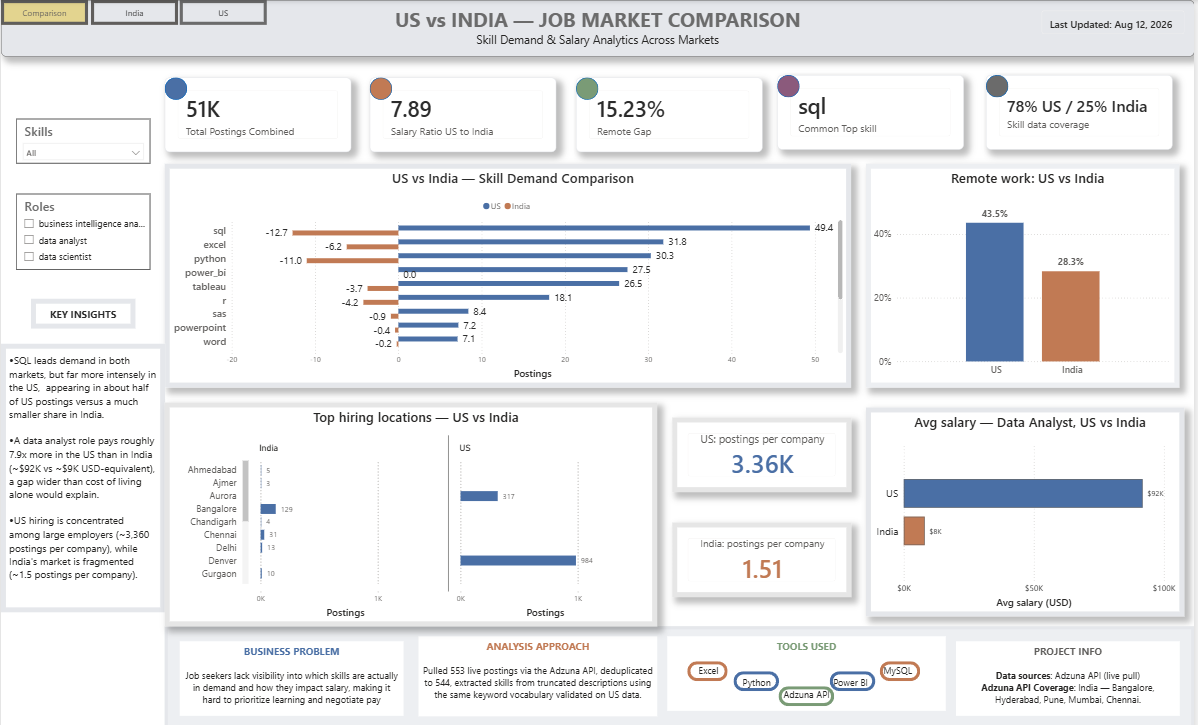

This screenshot's page, from the dashboard's own definition file:
{"tool":"powerbi","page":{"name":"Comparison","canvas":[1920,1200],"ordinal":2},"visuals":[{"type":"textbox","box":[0,0,1920,91],"z":0},{"type":"cardVisual","fields":{"Data":["_Measures.Top India Skill"]},"box":[1248,120,300,120],"z":0,"group":"g4"},{"type":"cardVisual","fields":{"Data":["_Measures.Data Coverage Label"]},"box":[1584,120,300,120],"z":0,"group":"g5"},{"type":"cardVisual","fields":{"Data":["_Measures.Total Postings Combined"]},"box":[264,124.8,300,120],"z":0,"group":"g1"},{"type":"cardVisual","fields":{"Data":["_Measures.Salary Ratio US to India"]},"box":[594,124.8,300,120],"z":0,"group":"g2"},{"type":"cardVisual","fields":{"Data":["_Measures.Remote Gap"]},"box":[924,124.8,300,120],"z":0,"group":"g3"},{"type":"shape","box":[1248,120,36,36],"z":1000,"group":"g4"},{"type":"shape","box":[1584,120,36,36],"z":1000,"group":"g5"},{"type":"shape","box":[264,124.8,36,36],"z":1000,"group":"g1"},{"type":"shape","box":[594,124.8,36,36],"z":1000,"group":"g2"},{"type":"shape","box":[924,124.8,36,36],"z":1000,"group":"g3"},{"type":"slicer","fields":{"Values":["SkillDim.skill_name"]},"box":[24,192,216,72],"z":1000},{"type":"slicer","fields":{"Values":["india_skills_by_role.search_term"]},"box":[24,312,216,122],"z":2000},{"type":"group","id":"g1","title":"Group 1","box":[264,124.8,312,120],"z":5000},{"type":"group","id":"g2","title":"Group 1","box":[594,124.8,312,120],"z":6000},{"type":"group","id":"g3","title":"Group 1","box":[924,124.8,312,120],"z":7000},{"type":"group","id":"g4","title":"Group 1","box":[1248,120,312,144],"z":8000},{"type":"group","id":"g5","title":"Group 1","box":[1584,120,288,144],"z":9000},{"type":"clusteredBarChart","title":"US vs India — Skill Demand Comparison","fields":{"Y":["Sum(us_vs_india_skill_comparison.us_pct)","_Measures.India Pct Negative"],"Category":["us_vs_india_skill_comparison.skill_name"]},"box":[264,264,1104,360],"z":10000},{"type":"clusteredBarChart","title":"Avg salary — Data Analyst, US vs India","fields":{"Category":["Remote compare.Country"],"Y":["Remote compare.Avg Salary USD (DA only)"]},"box":[1392,656,512,336],"z":13000},{"type":"textbox","box":[48,480,168,48],"z":14000},{"type":"textbox","box":[0,552,264,432],"z":15000},{"type":"shape","box":[264,1008,1656,168],"z":16000},{"type":"textbox","box":[288,1032,360,120],"z":17000},{"type":"textbox","box":[672,1024,384,129],"z":18000},{"type":"textbox","box":[1536,1032,360,120],"z":19000},{"type":"group","id":"g6","title":"Group 2","box":[1072,1024,448,128],"z":20000},{"type":"actionButton","box":[0,0,140,40],"z":21000},{"type":"textbox","box":[1072,1024,448.1,120],"z":21000,"group":"g6"},{"type":"shape","box":[1104.6,1064,65.2,32],"z":21500,"group":"g6"},{"type":"actionButton","box":[144,0,140,40],"z":22000},{"type":"actionButton","box":[288,0,140,40],"z":23000},{"type":"shape","box":[1414.2,1064,65.2,32],"z":23000,"group":"g6"},{"type":"cardVisual","fields":{"Data":["Parameter.Last Updated"]},"box":[1656,0,264,72],"z":24000},{"type":"shape","box":[1177.9,1080,73.3,32],"z":24000,"group":"g6"},{"type":"shape","box":[1332.7,1080,73.3,32],"z":25000,"group":"g6"},{"type":"clusteredColumnChart","title":"Remote work: US vs India","fields":{"Category":["Remote compare.Country"],"Y":["Remote compare.Remote Pct"]},"box":[1392,264,504,360],"z":26000},{"type":"shape","box":[1251.3,1104,89.6,32],"z":26000,"group":"g6"},{"type":"clusteredBarChart","title":"Top hiring locations — US vs India","fields":{"Category":["combined_top_locations.location_city"],"Y":["Sum(combined_top_locations.posting_count)"],"Rows":["combined_top_locations.Country"]},"box":[264,648,792,360],"z":26001},{"type":"cardVisual","fields":{"Data":["_Measures.Postings per Company US"]},"box":[1080,672,288,120],"z":26002},{"type":"cardVisual","fields":{"Data":["_Measures.Postings per Company India"]},"box":[1080,840,288,120],"z":26003}]}

Visuals, with their boxes on the page's 1920x1200 design canvas (x1, y1, x2, y2). These are canvas units, not pixel positions in the 1198x725 screenshot, which may show the page scaled, cropped or inside an application window:
textbox: BBox(0, 0, 1920, 91)
cardVisual - _Measures.Top India Skill: BBox(1248, 120, 1548, 240)
cardVisual - _Measures.Data Coverage Label: BBox(1584, 120, 1884, 240)
cardVisual - _Measures.Total Postings Combined: BBox(264, 125, 564, 245)
cardVisual - _Measures.Salary Ratio US to India: BBox(594, 125, 894, 245)
cardVisual - _Measures.Remote Gap: BBox(924, 125, 1224, 245)
shape: BBox(1248, 120, 1284, 156)
shape: BBox(1584, 120, 1620, 156)
shape: BBox(264, 125, 300, 161)
shape: BBox(594, 125, 630, 161)
shape: BBox(924, 125, 960, 161)
slicer - SkillDim.skill_name: BBox(24, 192, 240, 264)
slicer - india_skills_by_role.search_term: BBox(24, 312, 240, 434)
"Group 1" group: BBox(264, 125, 576, 245)
"Group 1" group: BBox(594, 125, 906, 245)
"Group 1" group: BBox(924, 125, 1236, 245)
"Group 1" group: BBox(1248, 120, 1560, 264)
"Group 1" group: BBox(1584, 120, 1872, 264)
"US vs India — Skill Demand Comparison" clusteredBarChart: BBox(264, 264, 1368, 624)
"Avg salary — Data Analyst, US vs India" clusteredBarChart: BBox(1392, 656, 1904, 992)
textbox: BBox(48, 480, 216, 528)
textbox: BBox(0, 552, 264, 984)
shape: BBox(264, 1008, 1920, 1176)
textbox: BBox(288, 1032, 648, 1152)
textbox: BBox(672, 1024, 1056, 1153)
textbox: BBox(1536, 1032, 1896, 1152)
"Group 2" group: BBox(1072, 1024, 1520, 1152)
actionButton: BBox(0, 0, 140, 40)
textbox: BBox(1072, 1024, 1520, 1144)
shape: BBox(1105, 1064, 1170, 1096)
actionButton: BBox(144, 0, 284, 40)
actionButton: BBox(288, 0, 428, 40)
shape: BBox(1414, 1064, 1479, 1096)
cardVisual - Parameter.Last Updated: BBox(1656, 0, 1920, 72)
shape: BBox(1178, 1080, 1251, 1112)
shape: BBox(1333, 1080, 1406, 1112)
"Remote work: US vs India" clusteredColumnChart: BBox(1392, 264, 1896, 624)
shape: BBox(1251, 1104, 1341, 1136)
"Top hiring locations — US vs India" clusteredBarChart: BBox(264, 648, 1056, 1008)
cardVisual - _Measures.Postings per Company US: BBox(1080, 672, 1368, 792)
cardVisual - _Measures.Postings per Company India: BBox(1080, 840, 1368, 960)
